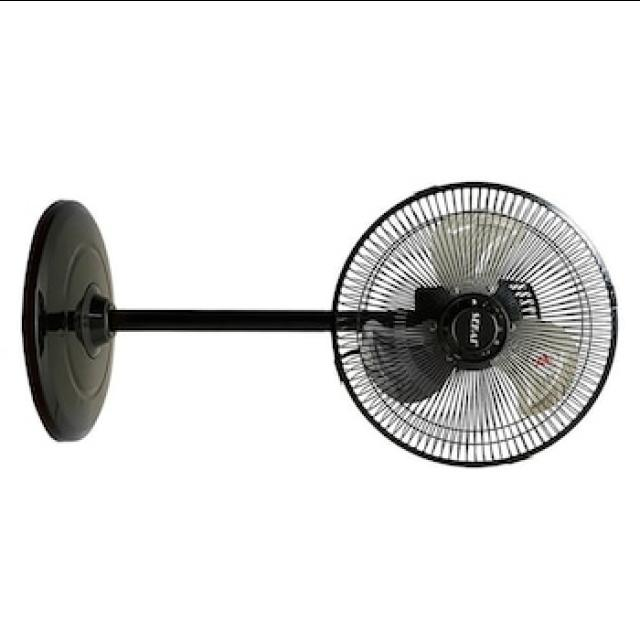fan: (21, 169, 620, 475)
